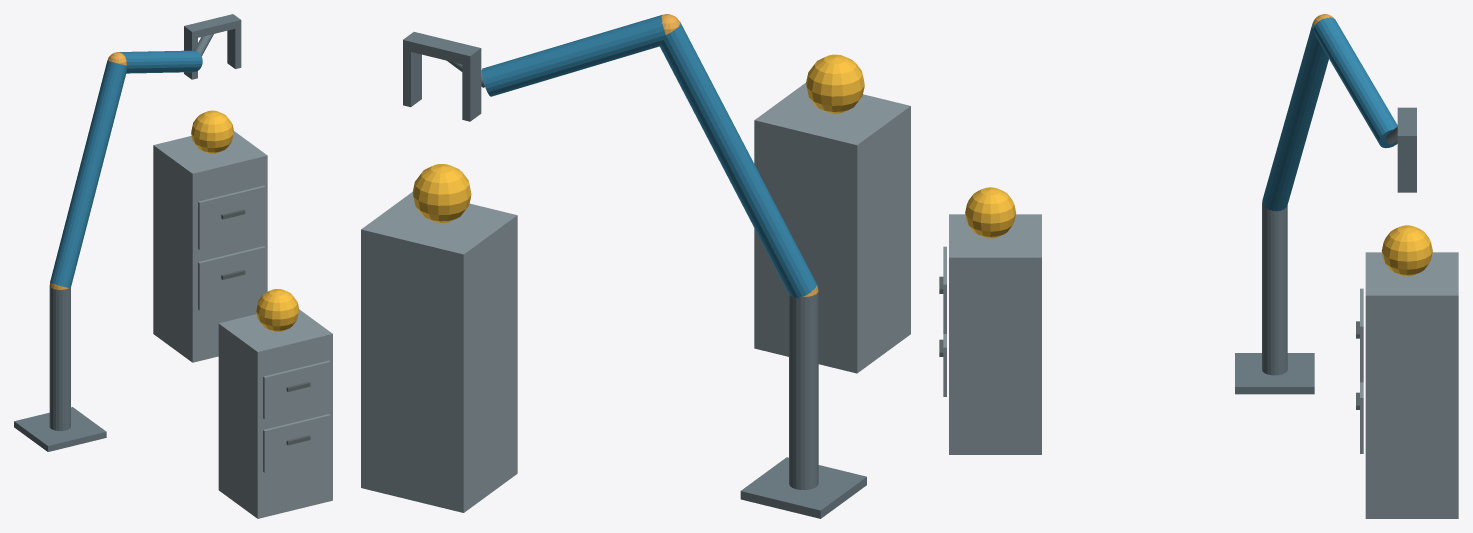
3 views of the same model, side by side, from view 1: azimuth 30°, elevation 25°; view 2: azimuth 150°, elevation 25°; view 3: azimuth 270°, elevation 25° (orthographic). The views are drawn at different scales.
Visible parts, largest first — view 1: cabinet_2 body, cabinet_1 body, moving link 1, cabinet_2 drawer front.001, cabinet_2 drawer front, fixed post, cabinet_1 drawer front.001, cabinet_1 drawer front, pedestal, moving link 2, ball ball_2, released ball_1 (+2 smaller); view 2: cabinet_2 body, cabinet_1 body, moving link 1, fixed post, moving link 2, pedestal, released ball_1, ball ball_2, gripper bridge, gripper finger -1, gripper finger 1; view 3: cabinet_2 body, cabinet_1 body, moving link 1, fixed post, moving link 2, pedestal, ball ball_2, released ball_1, gripper finger 1, gripper bridge.
Part boxes in pixels (x1,y1,x2,y2): cabinet_2 body: [153, 131, 267, 362]; cabinet_1 body: [218, 309, 332, 518]; moving link 1: [50, 60, 127, 287]; cabinet_2 drawer front.001: [198, 185, 265, 249]; cabinet_2 drawer front: [198, 246, 265, 310]; fixed post: [49, 286, 70, 430]; cabinet_1 drawer front.001: [263, 360, 330, 419]; cabinet_1 drawer front: [263, 414, 330, 472]; pedestal: [14, 407, 106, 451]; moving link 2: [119, 50, 202, 73]; ball ball_2: [191, 110, 233, 153]; released ball_1: [256, 289, 299, 331]; cabinet_2 body: [361, 192, 517, 512]; cabinet_1 body: [754, 83, 910, 373]; moving link 1: [660, 22, 816, 298]; fixed post: [789, 290, 818, 489]; moving link 2: [482, 14, 665, 96]; pedestal: [740, 457, 866, 518]; released ball_1: [806, 54, 864, 113]; ball ball_2: [412, 164, 471, 222]; gripper bridge: [403, 32, 481, 66]; gripper finger -1: [462, 58, 481, 121]; gripper finger 1: [403, 50, 421, 107]; cabinet_2 body: [1365, 252, 1458, 518]; cabinet_1 body: [949, 214, 1041, 454]; moving link 1: [1262, 23, 1328, 211]; fixed post: [1262, 204, 1287, 375]; moving link 2: [1313, 17, 1397, 148]; pedestal: [1235, 353, 1314, 394]; ball ball_2: [1381, 225, 1432, 276]; released ball_1: [965, 187, 1016, 238]; gripper finger 1: [1397, 144, 1416, 192]; gripper bridge: [1397, 107, 1416, 144].
Bounding box in the file's own units: 1.17 × 1.41 × 1.62.
